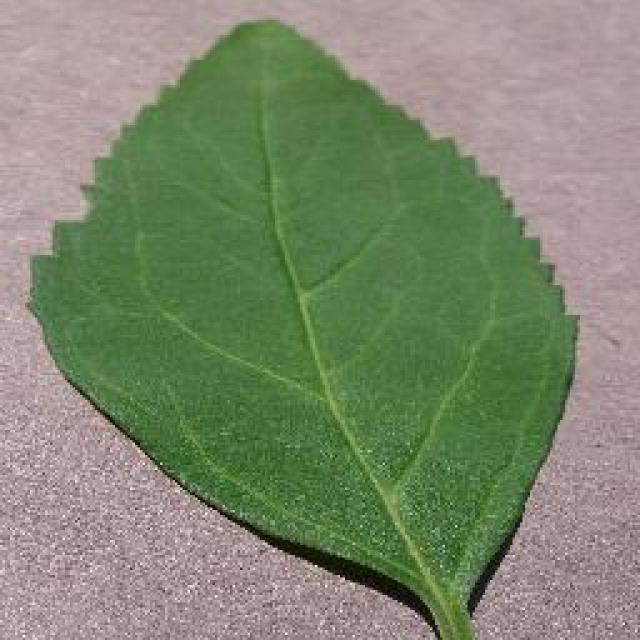Cherry___healthy: (15, 5, 590, 640)
